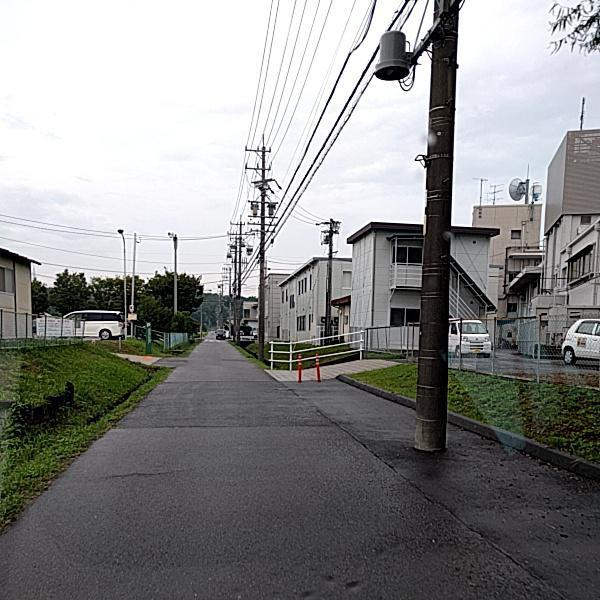D10: (84, 458, 193, 480)
